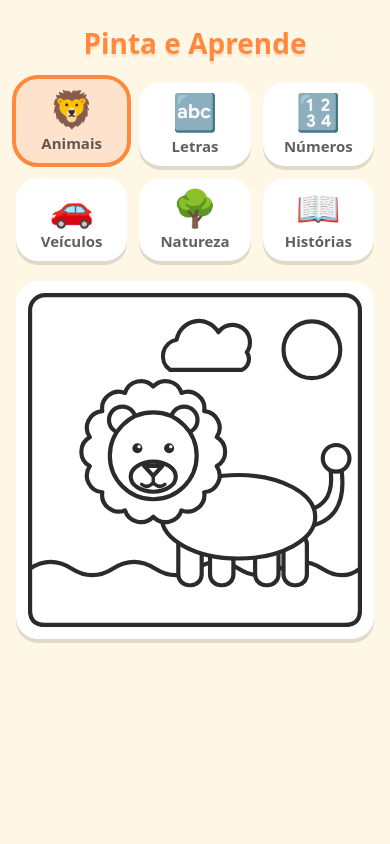
Test: App › mute toggles the sound button
Later steps or results of the test are not shown.
Click the button named "O Leão".
click(195, 460)  # box [16, 281, 374, 639]
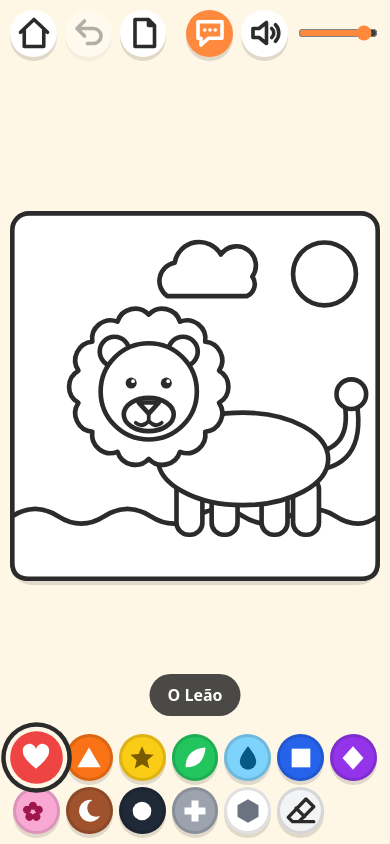
Click the button named "Sem som".
click(265, 33)  # box [241, 10, 288, 57]
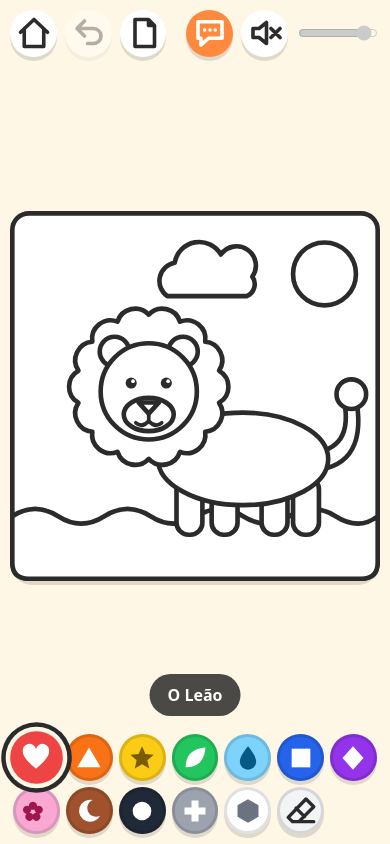
Expected: the slider named "Volume" is disabled, [298, 17, 378, 49]
